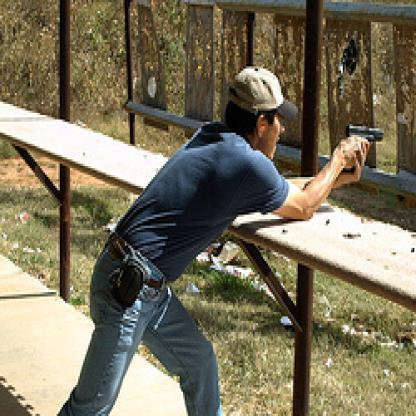gun: (340, 117, 390, 168)
